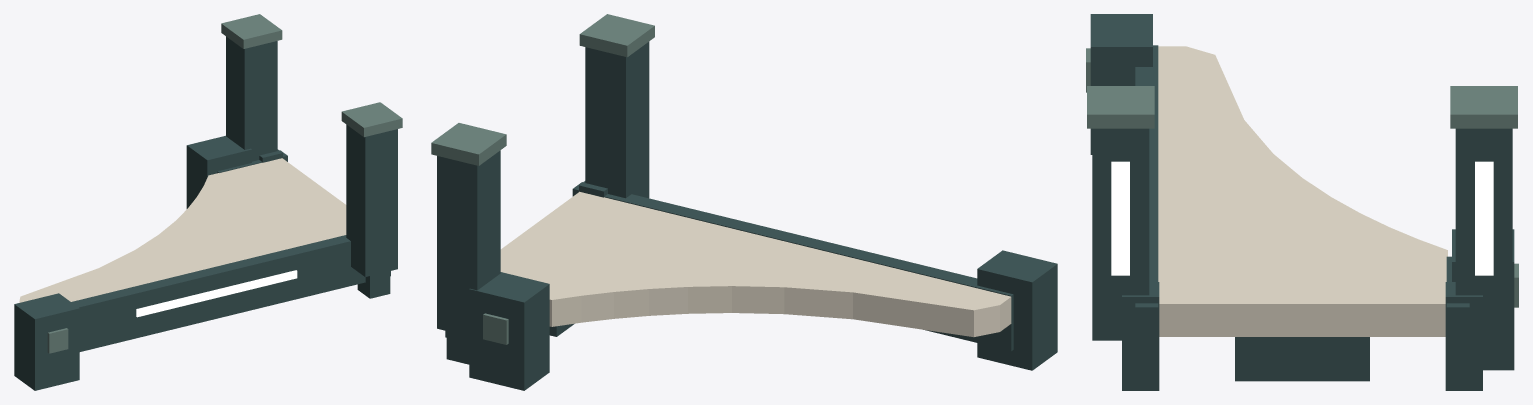
File: Pier_Angled_60_Switch_lab.glb
3 renders of one model, left to right at view 1: azimuth 30°, elevation 25°; view 2: azimuth 150°, elevation 25°; view 3: azimuth 270°, elevation 25°, orthographic. The views are drawn at different scales.
Visible parts, largest first — view 1: Pier_Angled_60_Switch; view 2: Pier_Angled_60_Switch; view 3: Pier_Angled_60_Switch.
Boxes of the visible parts, x1,y1,x2,y2 form: Pier_Angled_60_Switch: (14, 14, 402, 390); Pier_Angled_60_Switch: (431, 14, 1057, 390); Pier_Angled_60_Switch: (1086, 14, 1518, 390).
Bounding box in the file's own units: 6.23 × 2.95 × 4.17.
